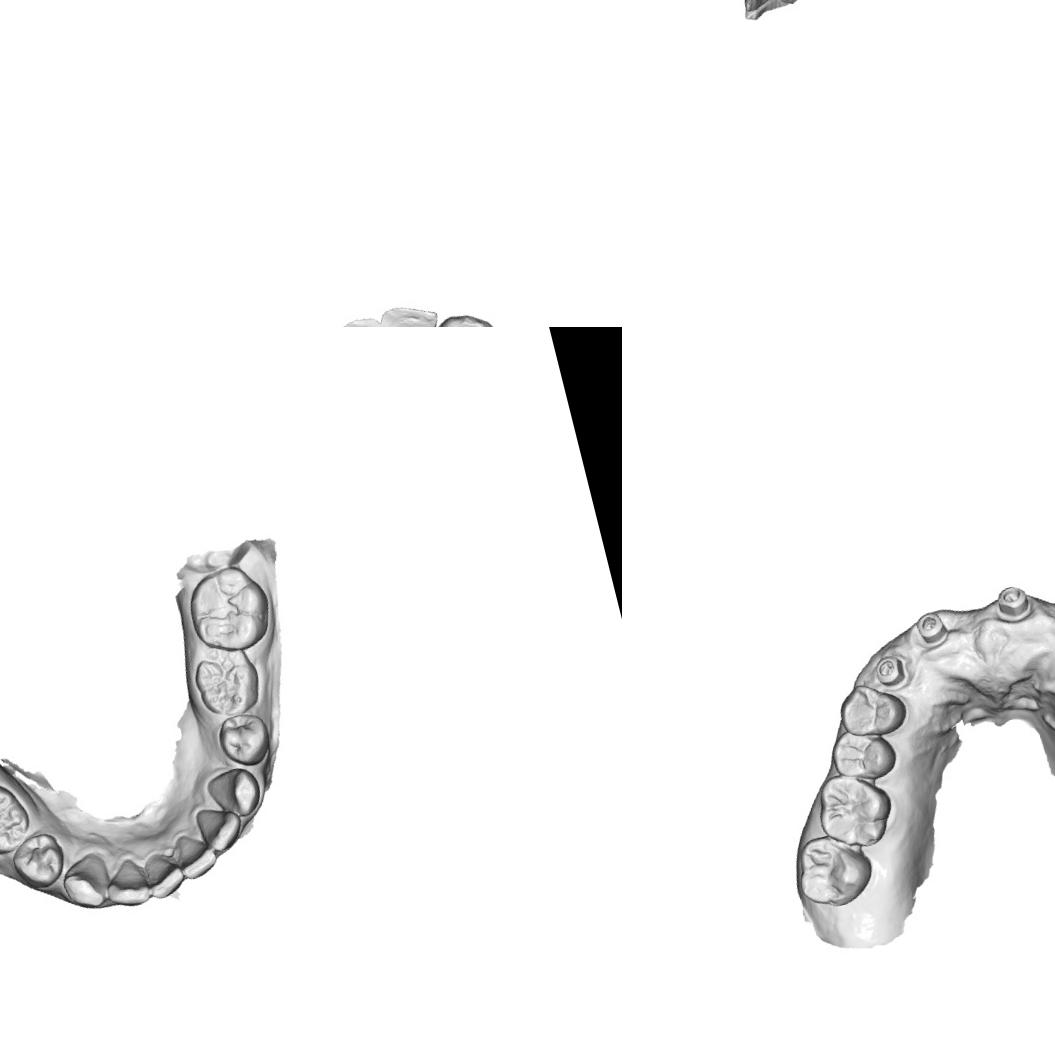canine: (55, 847, 115, 915), (201, 761, 266, 822)
implant: (990, 579, 1036, 626), (910, 606, 954, 650), (870, 648, 911, 690)
incisor: (97, 854, 154, 914), (190, 803, 249, 860), (165, 832, 222, 886), (136, 848, 190, 902), (374, 294, 450, 327), (428, 303, 505, 327), (733, 0, 795, 24), (329, 311, 394, 327)
molar: (178, 557, 280, 661), (808, 763, 901, 857), (787, 824, 882, 916), (185, 642, 267, 724), (0, 774, 36, 862)
premolar: (824, 718, 902, 790), (832, 674, 912, 744), (6, 828, 72, 896), (212, 705, 276, 772)
